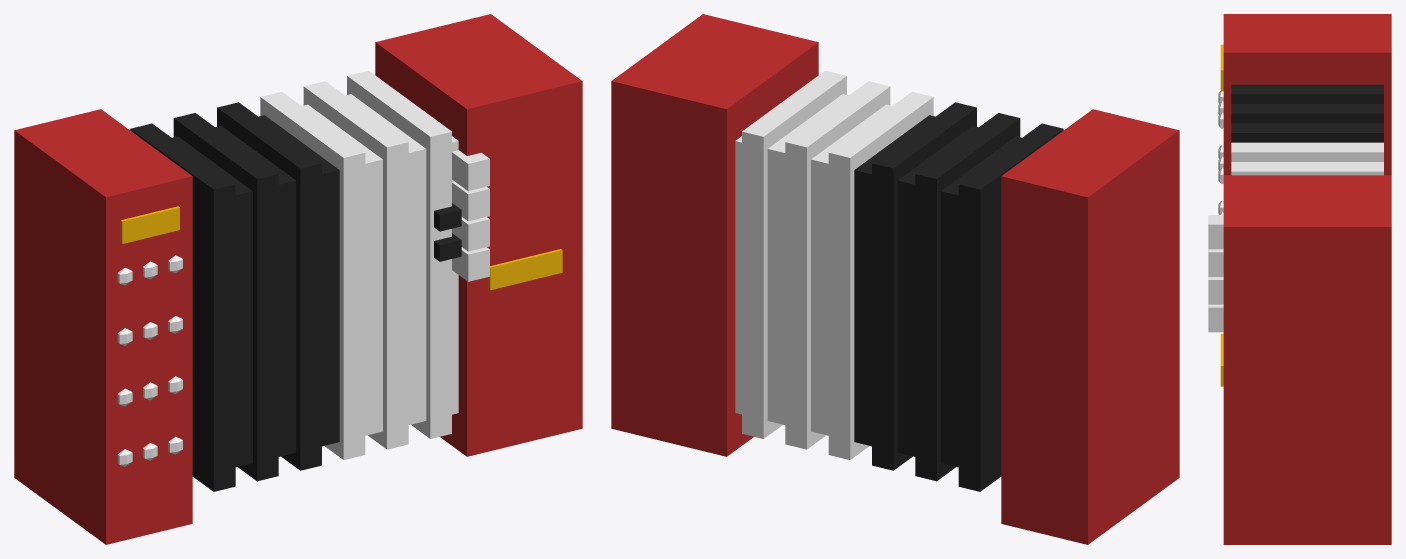
File: dragspel.glb
3 views of the same model, side by side, from view 1: azimuth 30°, elevation 25°; view 2: azimuth 150°, elevation 25°; view 3: azimuth 270°, elevation 25° (orthographic). The views are drawn at different scales.
Visible parts, largest first — view 1: dragspel; view 2: dragspel; view 3: dragspel.
Boxes of the visible parts, box(x1,y1,x2,y2) form: dragspel: box(14, 14, 582, 544); dragspel: box(611, 14, 1179, 544); dragspel: box(1208, 14, 1391, 544).
Size of the model in its own units: 0.66 by 0.46 by 0.24.
